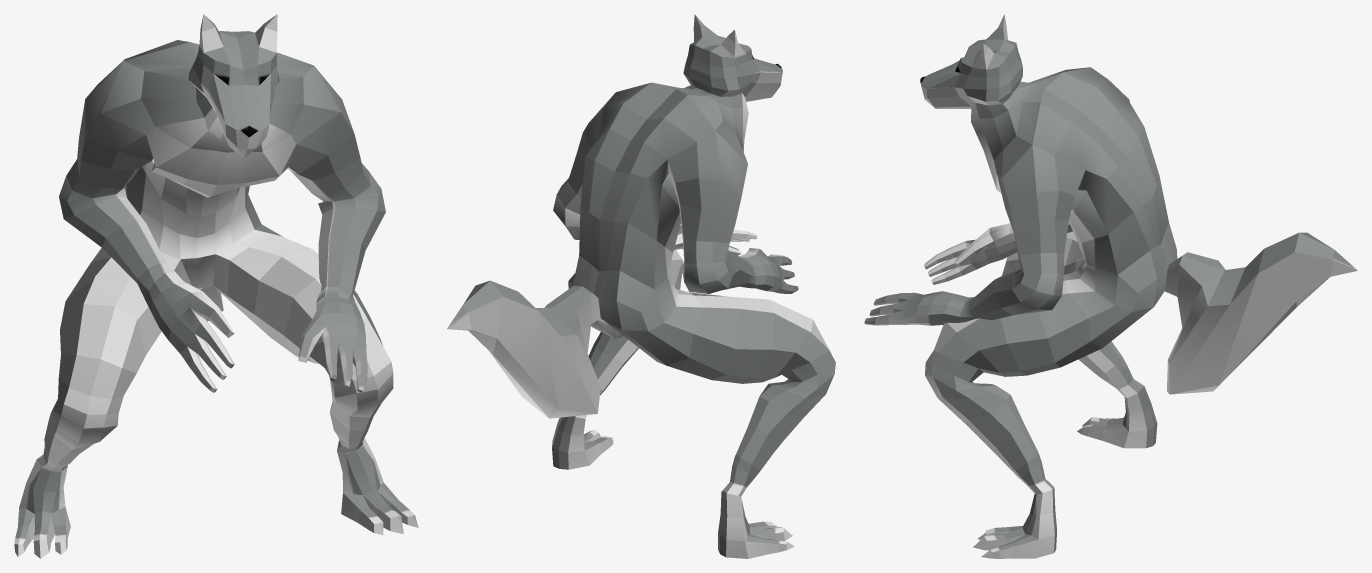
Rendered from WolfAttack(3).obj.
3 views of the same model, side by side, from view 1: azimuth 30°, elevation 25°; view 2: azimuth 150°, elevation 25°; view 3: azimuth 270°, elevation 25° (orthographic). The views are drawn at different scales.
Visible parts, largest first — view 1: Box001; view 2: Box001; view 3: Box001.
Part boxes in pixels (box(x1,y1,x2,y2)): Box001: box(14, 14, 418, 558); Box001: box(447, 14, 835, 558); Box001: box(864, 14, 1357, 558).
Bounding box in the file's own units: 76.13 × 120 × 116.
